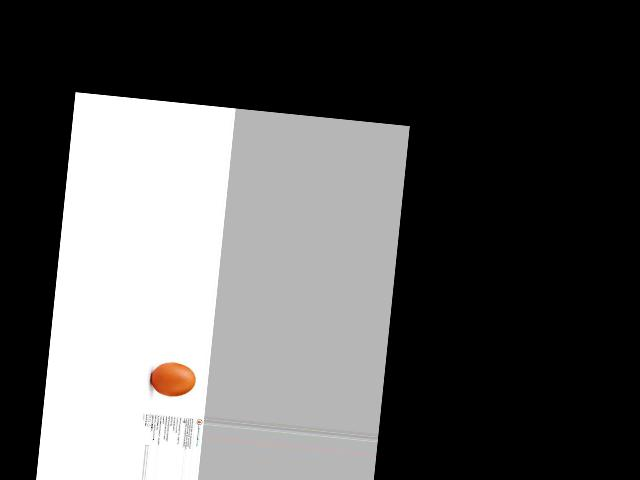egg: (149, 360, 196, 398)
